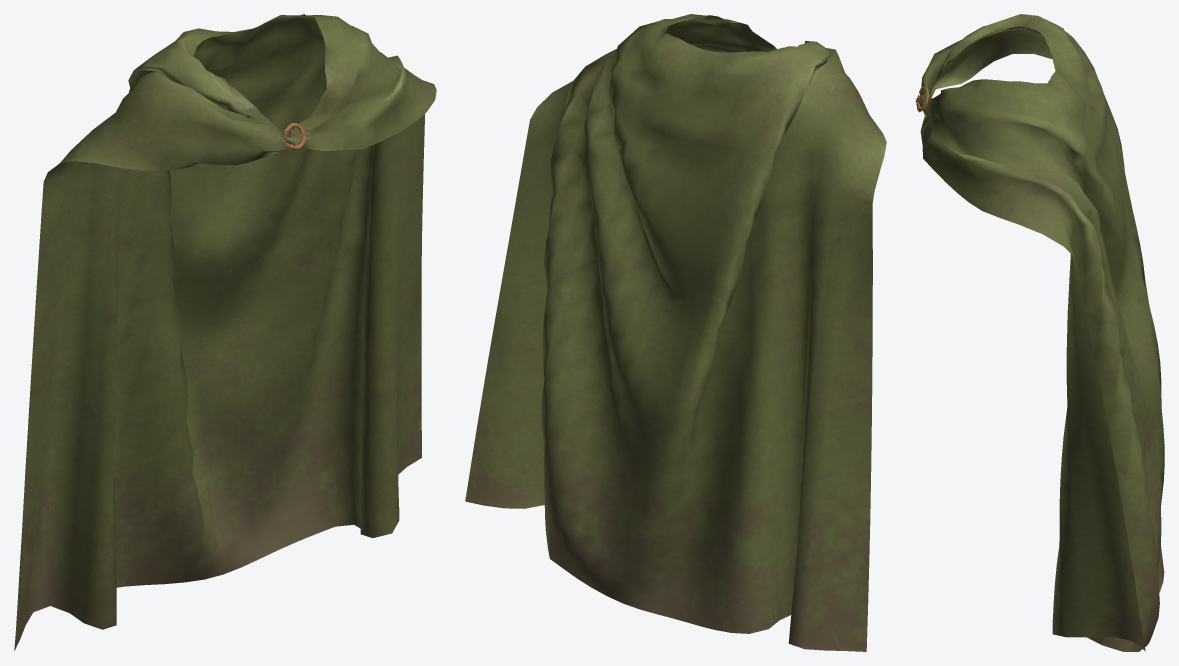
File: cts_rohan_cape4.fbx
The picture shows the model from 3 angles, left to right: view 1: azimuth 30°, elevation 25°; view 2: azimuth 150°, elevation 25°; view 3: azimuth 270°, elevation 25°; orthographic projection. The views are drawn at different scales.
Visible parts, largest first — view 1: cts_rohan_cape4; view 2: cts_rohan_cape4; view 3: cts_rohan_cape4.
Part boxes in pixels (x1=…): cts_rohan_cape4: x1=14, y1=14, x2=436, y2=650; cts_rohan_cape4: x1=465, y1=14, x2=886, y2=651; cts_rohan_cape4: x1=915, y1=14, x2=1164, y2=651.
Bounding box in the file's own units: 0.9055 × 0.4888 × 1.24.
Materials: 1 (1 with a texture image).
